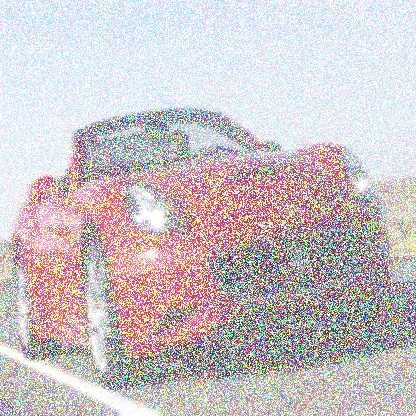Vehicle: (11, 108, 393, 395)
